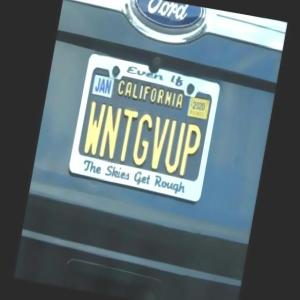Plate: (65, 49, 223, 205)
